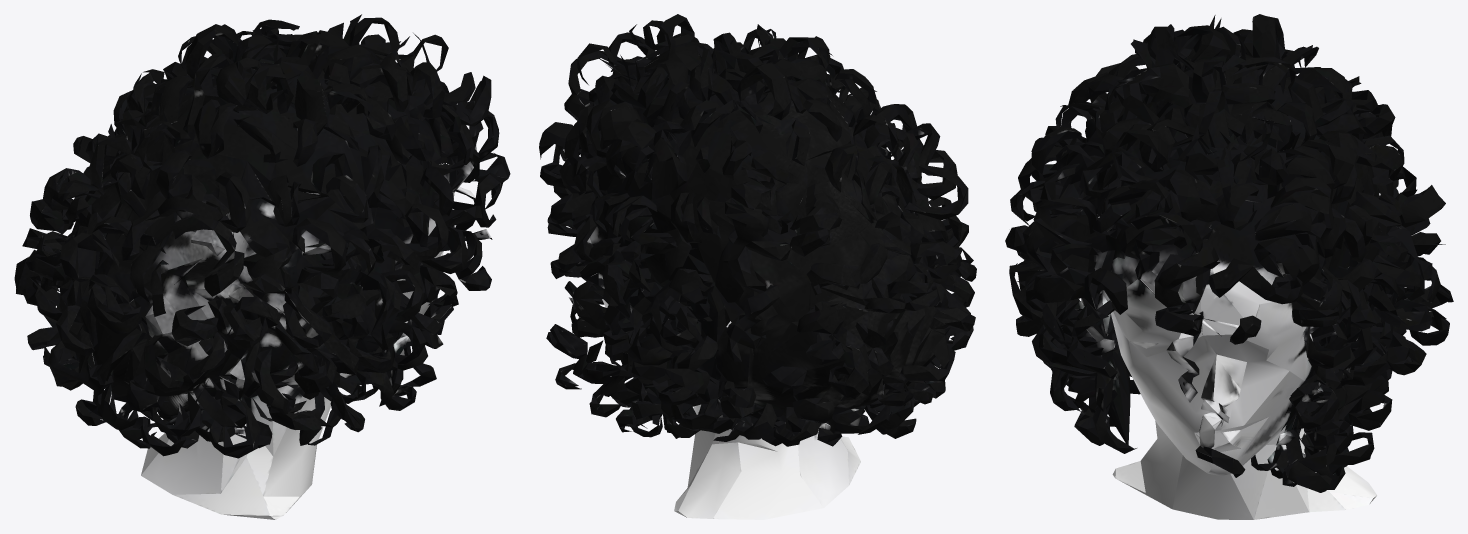
Rendered from hair_f_curly.glb.
3 renders of one model, left to right at view 1: azimuth 30°, elevation 25°; view 2: azimuth 150°, elevation 25°; view 3: azimuth 270°, elevation 25°, orthographic. The views are drawn at different scales.
Size of the model in its own units: 1.8 by 1.74 by 1.51.
Materials: 1 (1 with a texture image).
